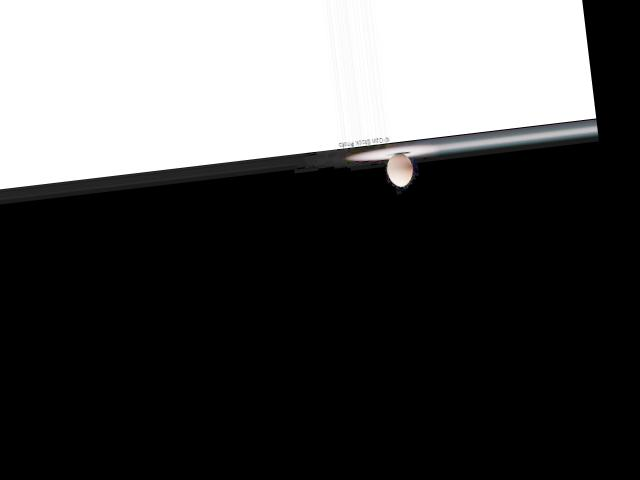egg: (385, 151, 414, 187)
